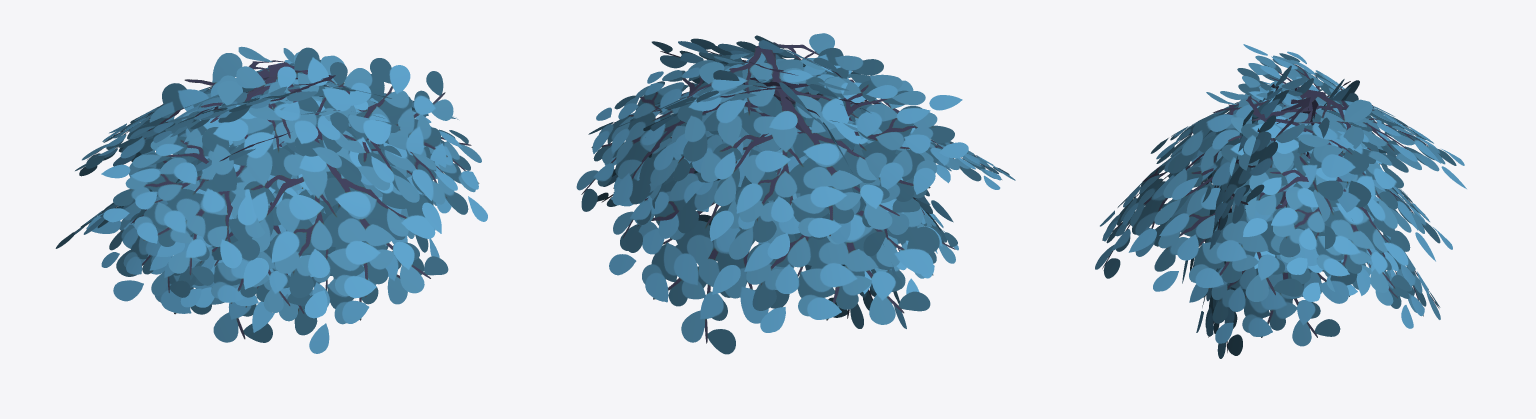
The model's file is LushBush_02.fbx.
3 views of the same model, side by side, from view 1: azimuth 30°, elevation 25°; view 2: azimuth 150°, elevation 25°; view 3: azimuth 270°, elevation 25° (orthographic). The views are drawn at different scales.
Parts seen in each view (by area): view 1: lushleaf_B; view 2: lushleaf_B; view 3: lushleaf_B.
Part boxes in pixels (x1,y1,x2,y2): lushleaf_B: (55,46,487,353); lushleaf_B: (576,33,1015,354); lushleaf_B: (1095,44,1466,358).
Bounding box in the file's own units: 173 × 127 × 154.
